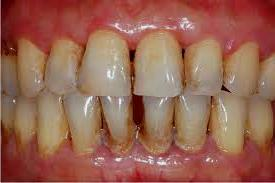Calculus: (78, 26, 134, 99), (132, 30, 181, 95), (204, 91, 245, 153), (172, 92, 213, 149), (44, 34, 85, 90), (184, 38, 224, 92), (66, 92, 101, 152), (100, 94, 137, 150), (137, 93, 172, 150), (244, 88, 275, 150), (34, 96, 64, 157), (11, 103, 36, 151)
